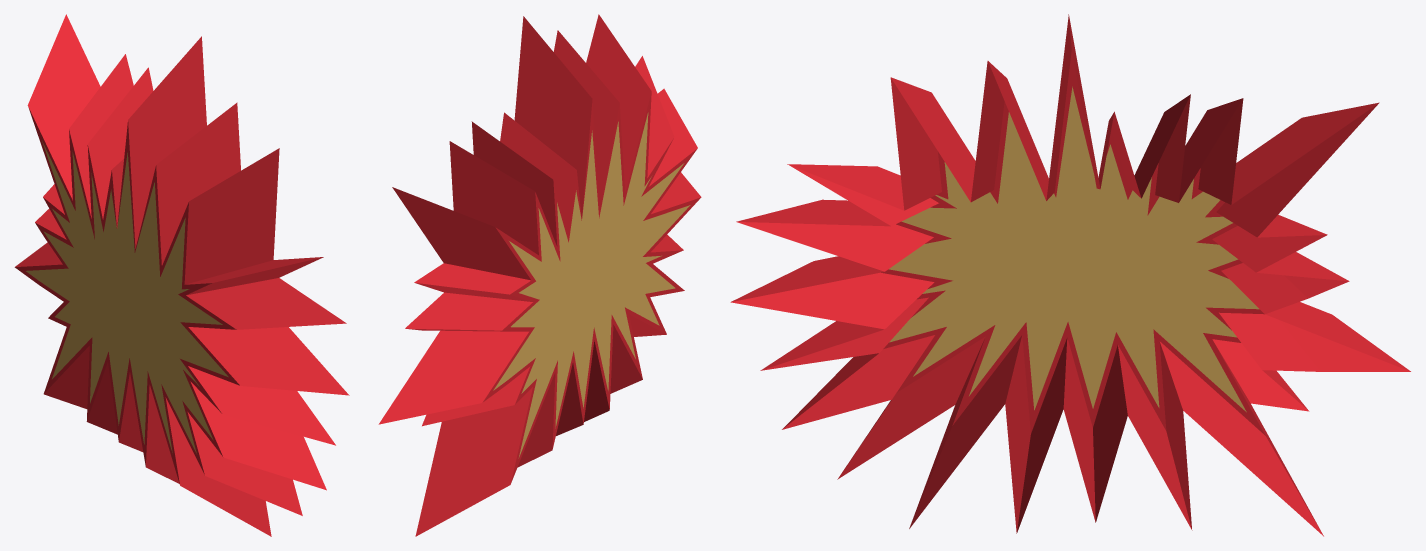
Rendered from Placa_01.fbx.
3 renders of one model, left to right at view 1: azimuth 30°, elevation 25°; view 2: azimuth 150°, elevation 25°; view 3: azimuth 270°, elevation 25°, orthographic. The views are drawn at different scales.
Parts seen in each view (by area): view 1: Placa 01; view 2: Placa 01; view 3: Placa 01.
Part boxes in pixels (bbox=[...]): Placa 01: bbox=[14, 14, 349, 536]; Placa 01: bbox=[378, 14, 701, 536]; Placa 01: bbox=[730, 14, 1410, 536].
Bounding box in the file's own units: 28.49 × 171 × 202.
